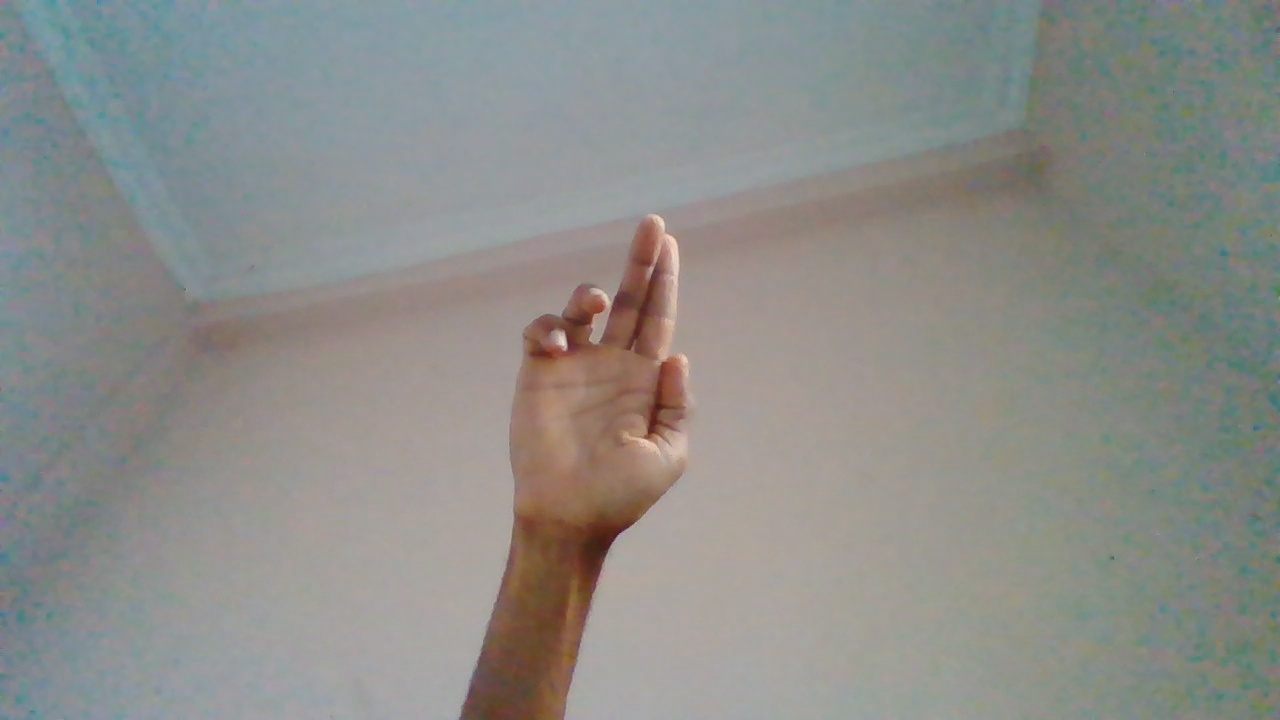gne: (506, 212, 695, 615)
